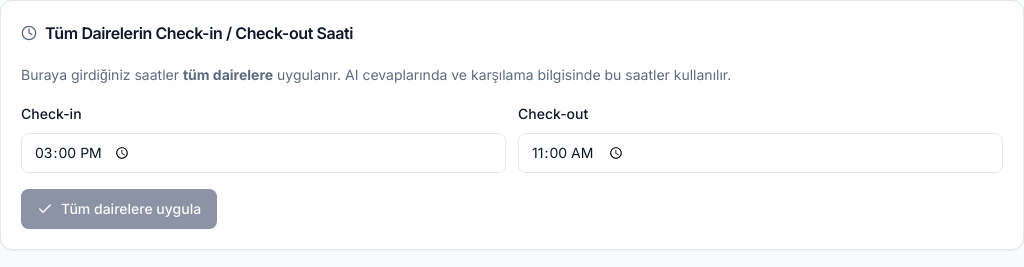
Test: BulkTimesForm — yalnız değişen alan › 🚨 yalnız giriş saati değişti → gövdede çıkış saati YOK
Replace the text in the time field labelled "Check-in" with "16:00" at (264, 153), box [21,133,506,173]
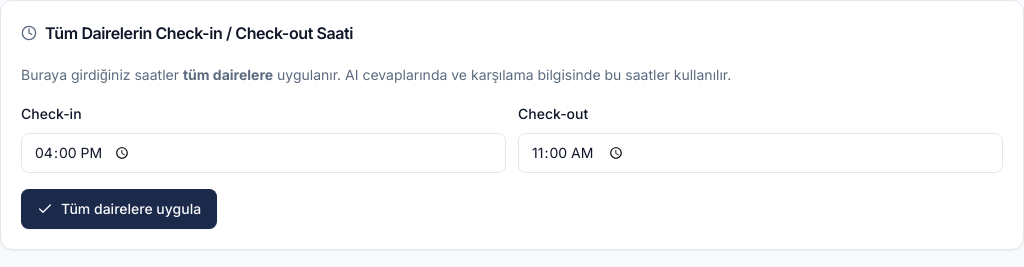
Submit the form, box [21,65,1003,229]
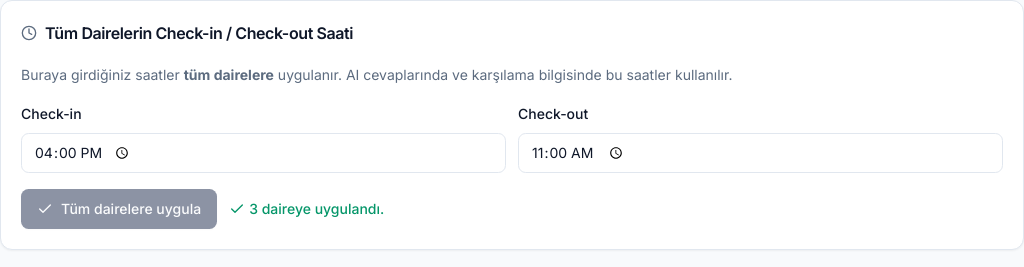
Expected: the text "3 daireye uygulandı." is shown, [229,199,384,219]
